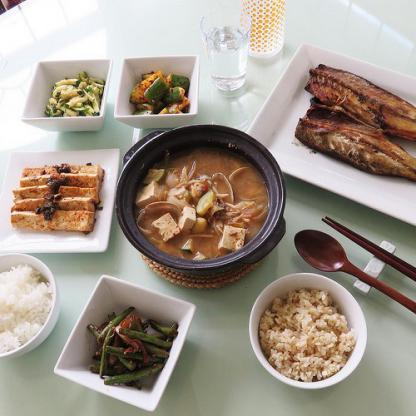Peixe: (306, 62, 407, 152)
